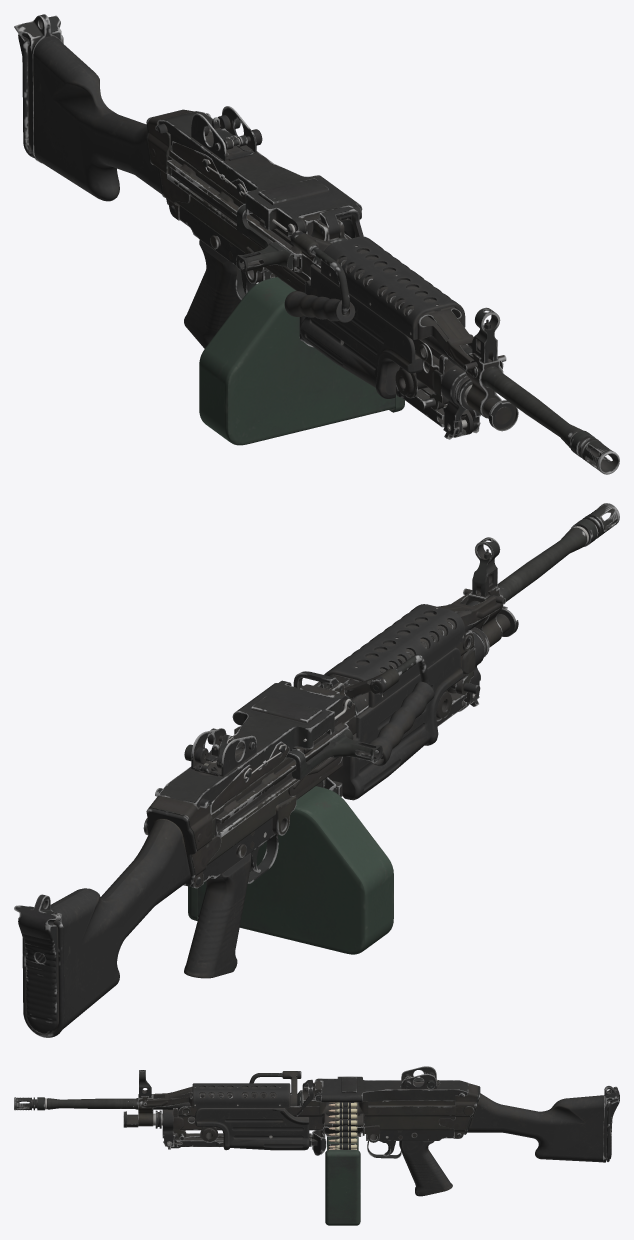
The model's file is m249_counter_strike_2.glb.
3 renders of one model, top to bottom at view 1: azimuth 30°, elevation 25°; view 2: azimuth 150°, elevation 25°; view 3: azimuth 270°, elevation 25°, orthographic. The views are drawn at different scales.
Parts seen in each view (by area): view 1: M249_CS2; view 2: M249_CS2; view 3: M249_CS2.
Part boxes in pixels (left/top/right/bottom): M249_CS2: left=14, top=14, right=619, bottom=474; M249_CS2: left=14, top=503, right=619, bottom=1037; M249_CS2: left=14, top=1066, right=619, bottom=1225.
Bounding box in the file's own units: 0.2171 × 0.2931 × 1.21.
Materials: 1 (1 with a texture image).
